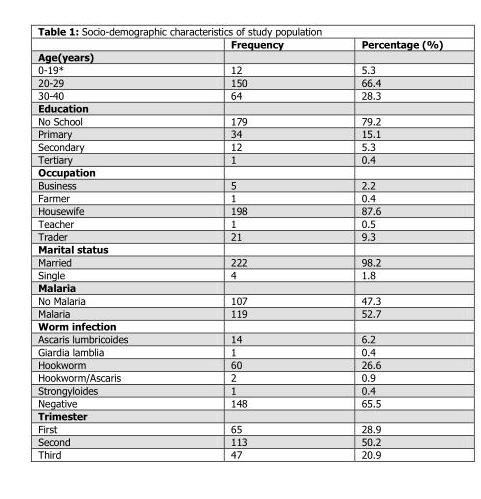table: (37, 37, 442, 459)
table column: (178, 37, 321, 459), (37, 37, 178, 459), (321, 37, 442, 459)
table column header: (37, 37, 442, 49)
table projected row header: (37, 49, 442, 62), (37, 165, 442, 178), (37, 280, 442, 293), (37, 408, 442, 421), (37, 101, 442, 113), (37, 242, 442, 254), (37, 319, 442, 331)
table row: (37, 49, 442, 62), (37, 62, 442, 75), (37, 75, 442, 88), (37, 88, 442, 101), (37, 113, 442, 126), (37, 126, 442, 139), (37, 139, 442, 152), (37, 152, 442, 165), (37, 165, 442, 178), (37, 190, 442, 203), (37, 203, 442, 216), (37, 216, 442, 229), (37, 229, 442, 242), (37, 254, 442, 267), (37, 267, 442, 280), (37, 280, 442, 293), (37, 293, 442, 306), (37, 306, 442, 319), (37, 331, 442, 344), (37, 344, 442, 357), (37, 357, 442, 370), (37, 370, 442, 383), (37, 383, 442, 396), (37, 408, 442, 421), (37, 421, 442, 434), (37, 434, 442, 447), (37, 37, 442, 49), (37, 101, 442, 113), (37, 178, 442, 190), (37, 242, 442, 254), (37, 319, 442, 331), (37, 396, 442, 408), (37, 447, 442, 459)
